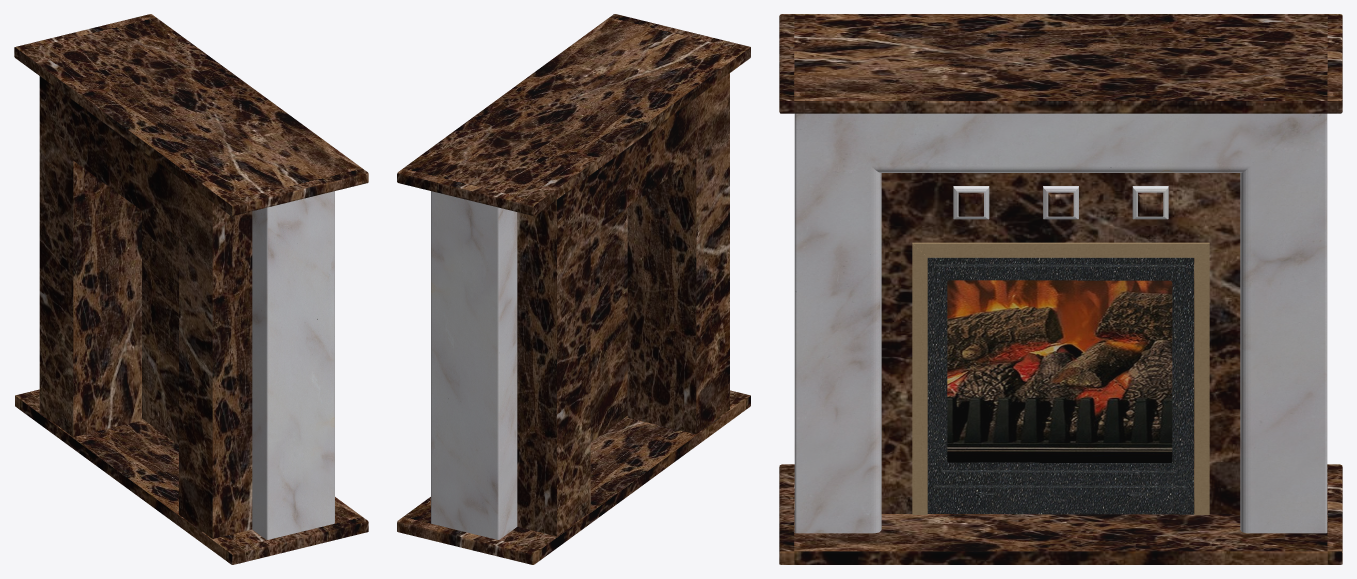
The model's file is fireplace2.obj.
3 renders of one model, left to right at view 1: azimuth 30°, elevation 25°; view 2: azimuth 150°, elevation 25°; view 3: azimuth 270°, elevation 25°, orthographic. The views are drawn at different scales.
Parts seen in each view (by area): view 1: fpl2; view 2: fpl2; view 3: fpl2.
Part boxes in pixels (left/top/right/bottom): fpl2: left=14, top=14, right=368, bottom=564; fpl2: left=397, top=14, right=750, bottom=564; fpl2: left=779, top=14, right=1342, bottom=564.
Size of the model in its own units: 4000 by 10000 by 11000.
6 materials, 6 textured.
